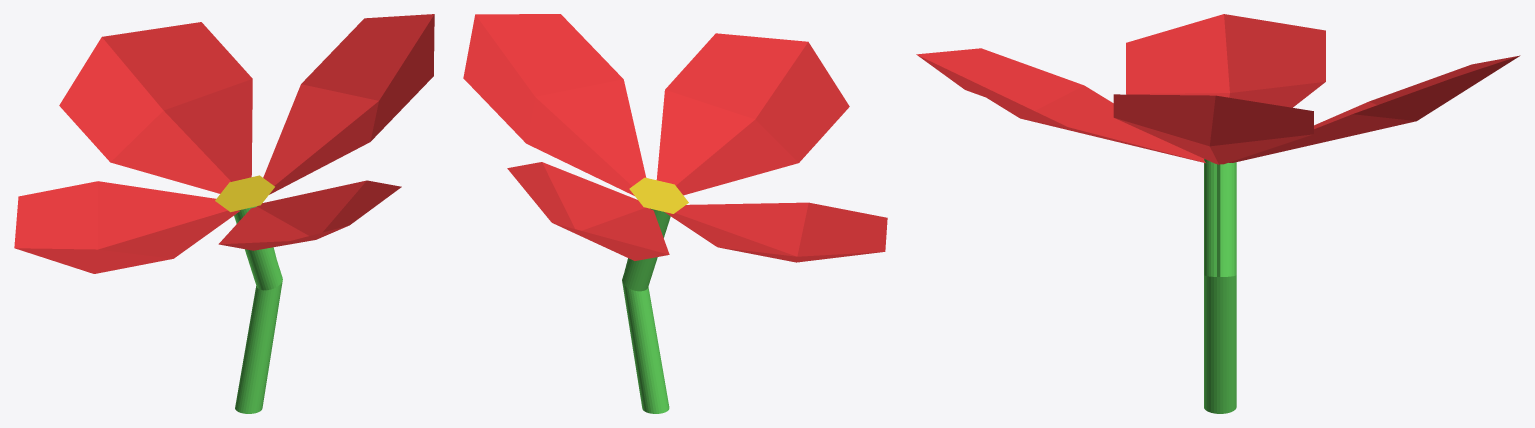
File: Flower.fbx
3 renders of one model, left to right at view 1: azimuth 30°, elevation 25°; view 2: azimuth 150°, elevation 25°; view 3: azimuth 270°, elevation 25°, orthographic. The views are drawn at different scales.
Parts seen in each view (by area): view 1: Petal; view 2: Petal; view 3: Petal.
Boxes of the visible parts, x1,y1,x2,y2 form: Petal: (14, 14, 434, 413); Petal: (463, 14, 887, 413); Petal: (916, 14, 1520, 413).
Size of the model in its own units: 546 by 439 by 575.
